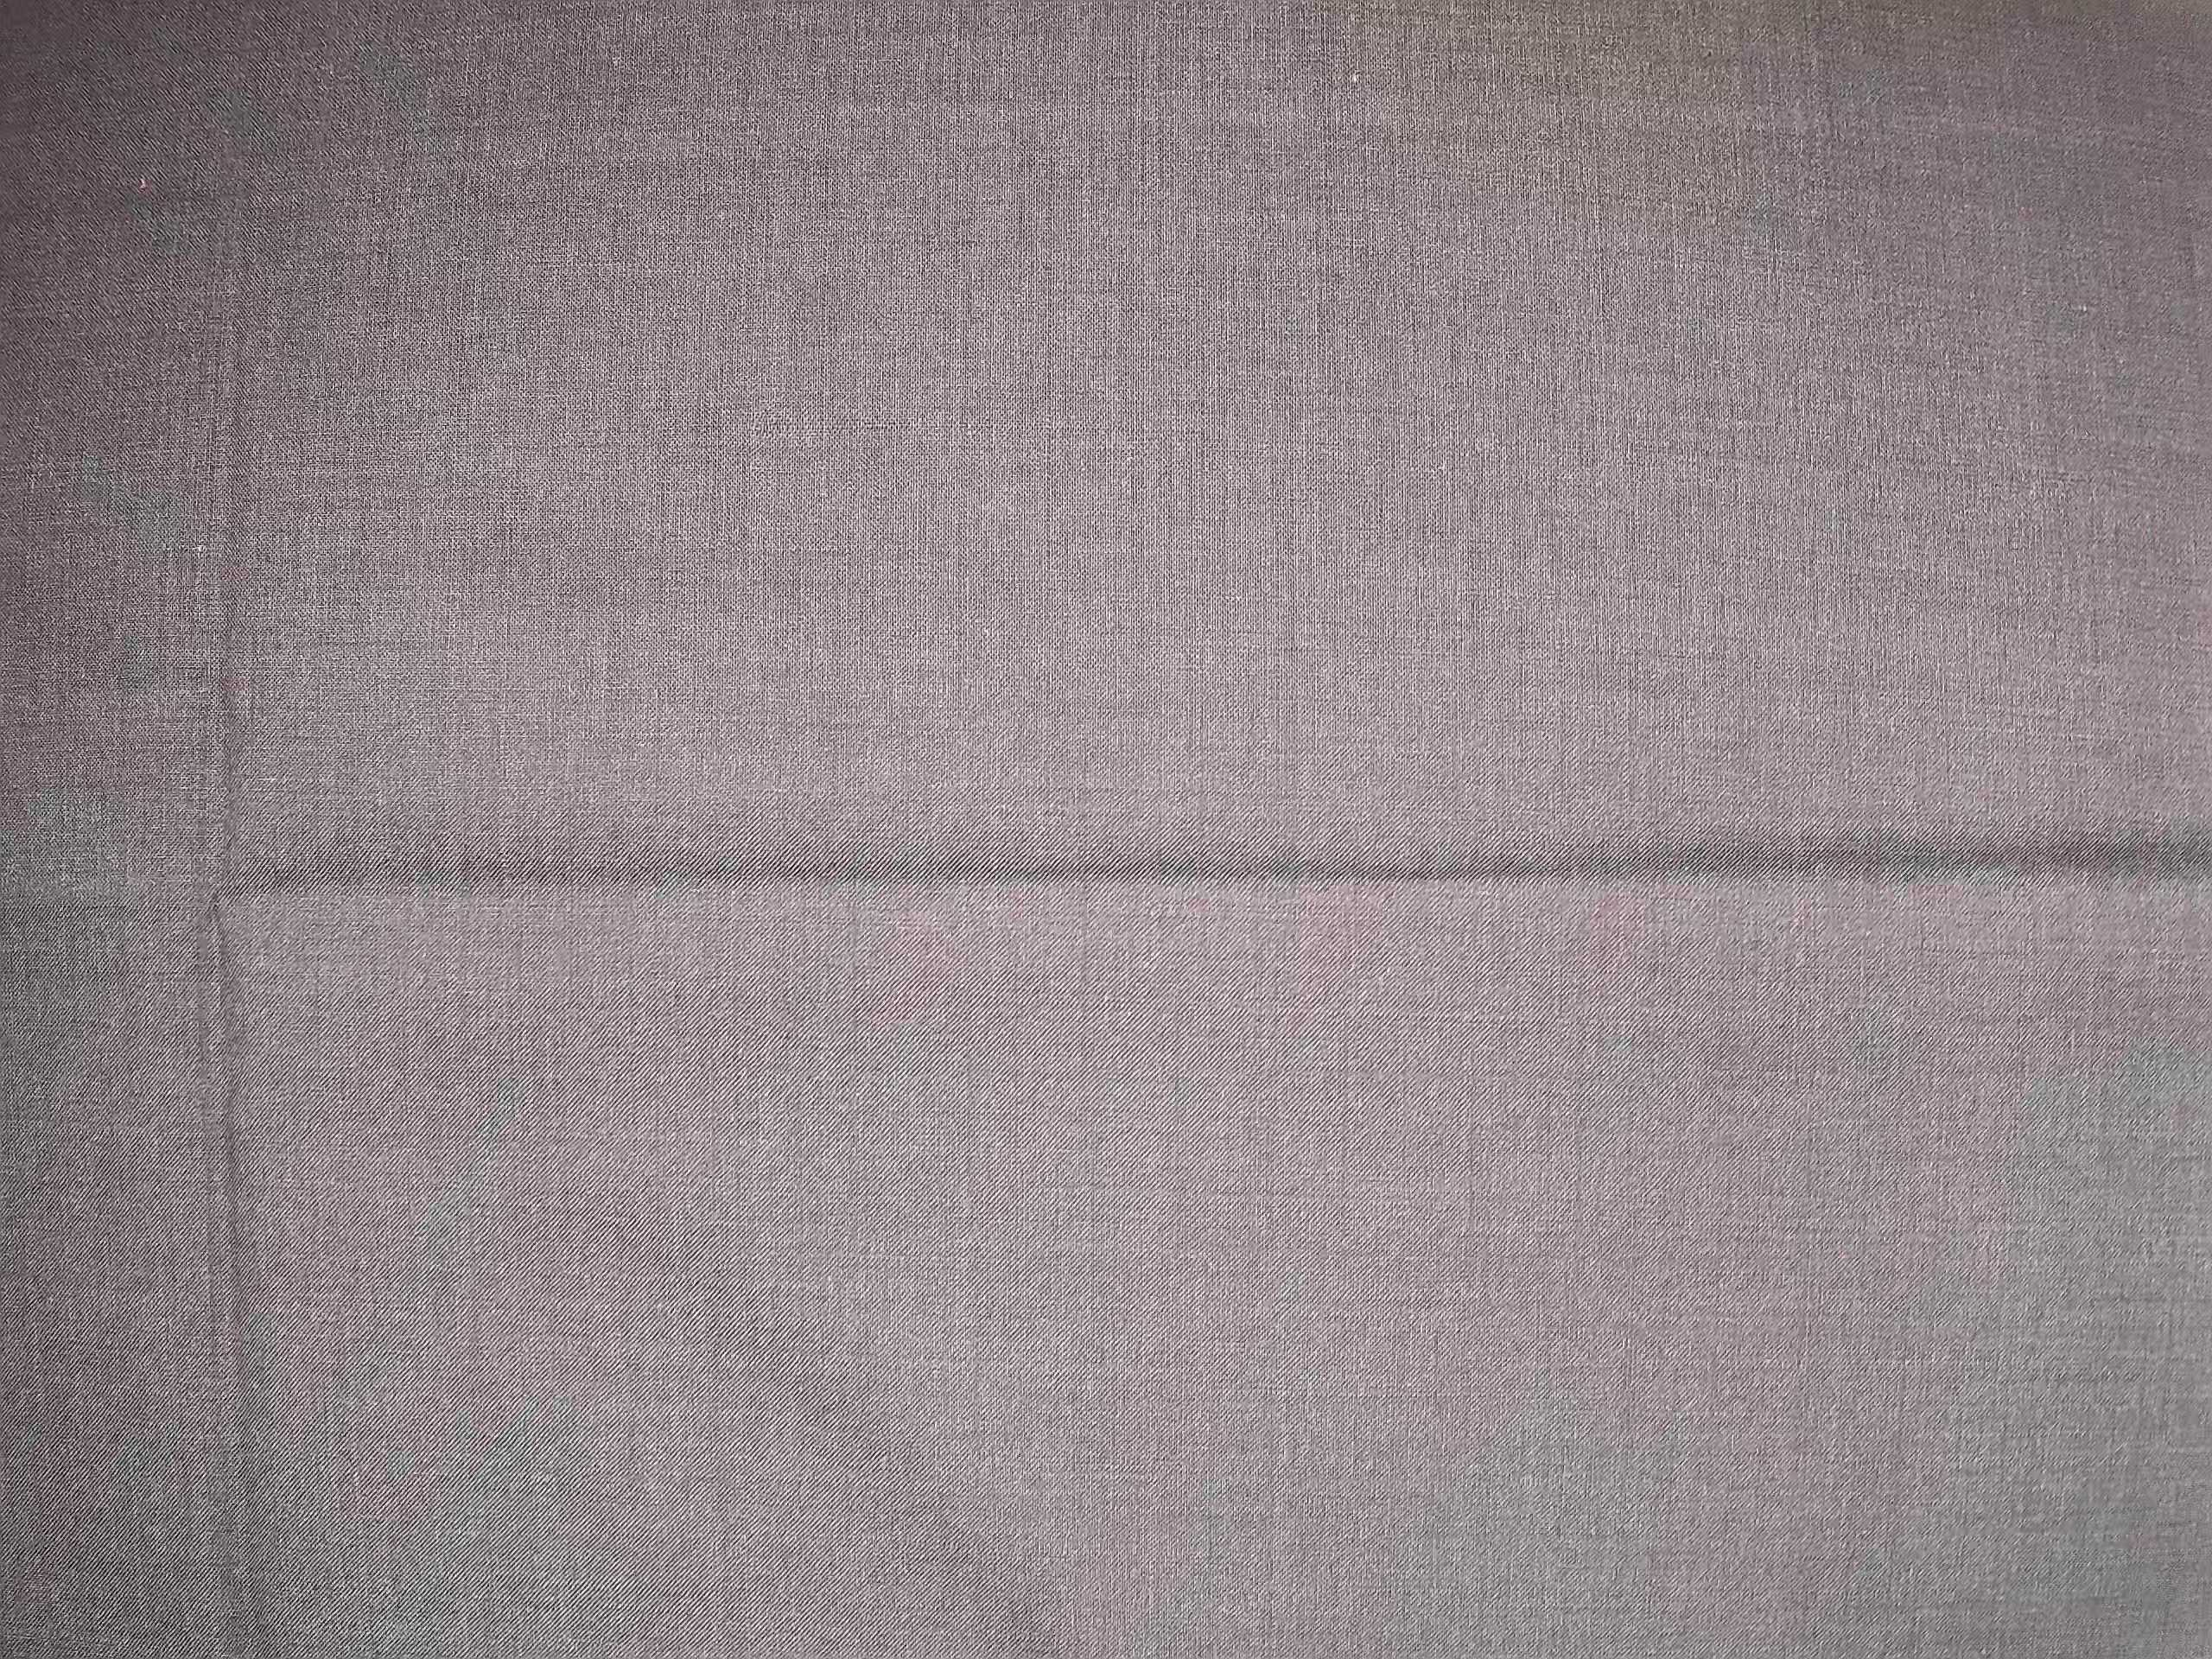thin-spinning: (665, 394, 904, 457), (1031, 242, 1066, 601)
